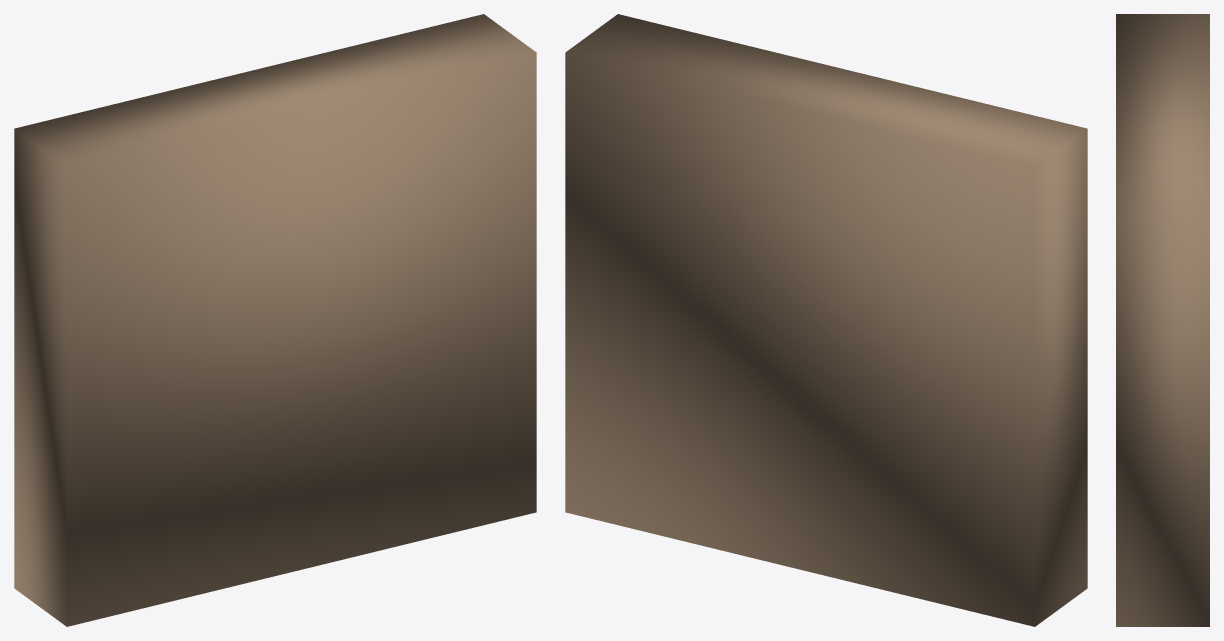
File: back_bar_shelf__reinforced.glb
The picture shows the model from 3 angles, left to right: view 1: azimuth 30°, elevation 25°; view 2: azimuth 150°, elevation 25°; view 3: azimuth 270°, elevation 25°; orthographic projection. The views are drawn at different scales.
Parts seen in each view (by area): view 1: world; view 2: world; view 3: world.
Part boxes in pixels (x1=…): world: x1=14, y1=14, x2=536, y2=626; world: x1=565, y1=14, x2=1087, y2=626; world: x1=1116, y1=14, x2=1209, y2=626.
Size of the model in its own units: 1.85 by 1.73 by 0.3605.
